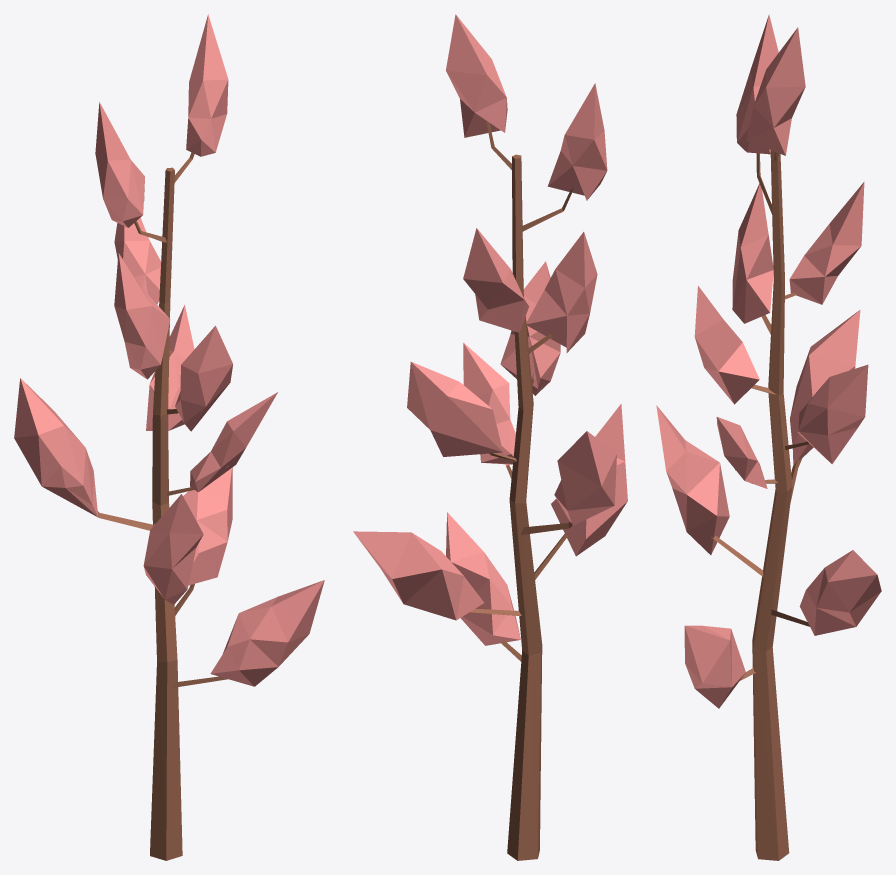
The model's file is tree_blossom.obj.
3 renders of one model, left to right at view 1: azimuth 30°, elevation 25°; view 2: azimuth 150°, elevation 25°; view 3: azimuth 270°, elevation 25°, orthographic. The views are drawn at different scales.
Bounding box in the file's own units: 3.02 × 10.22 × 2.44.
